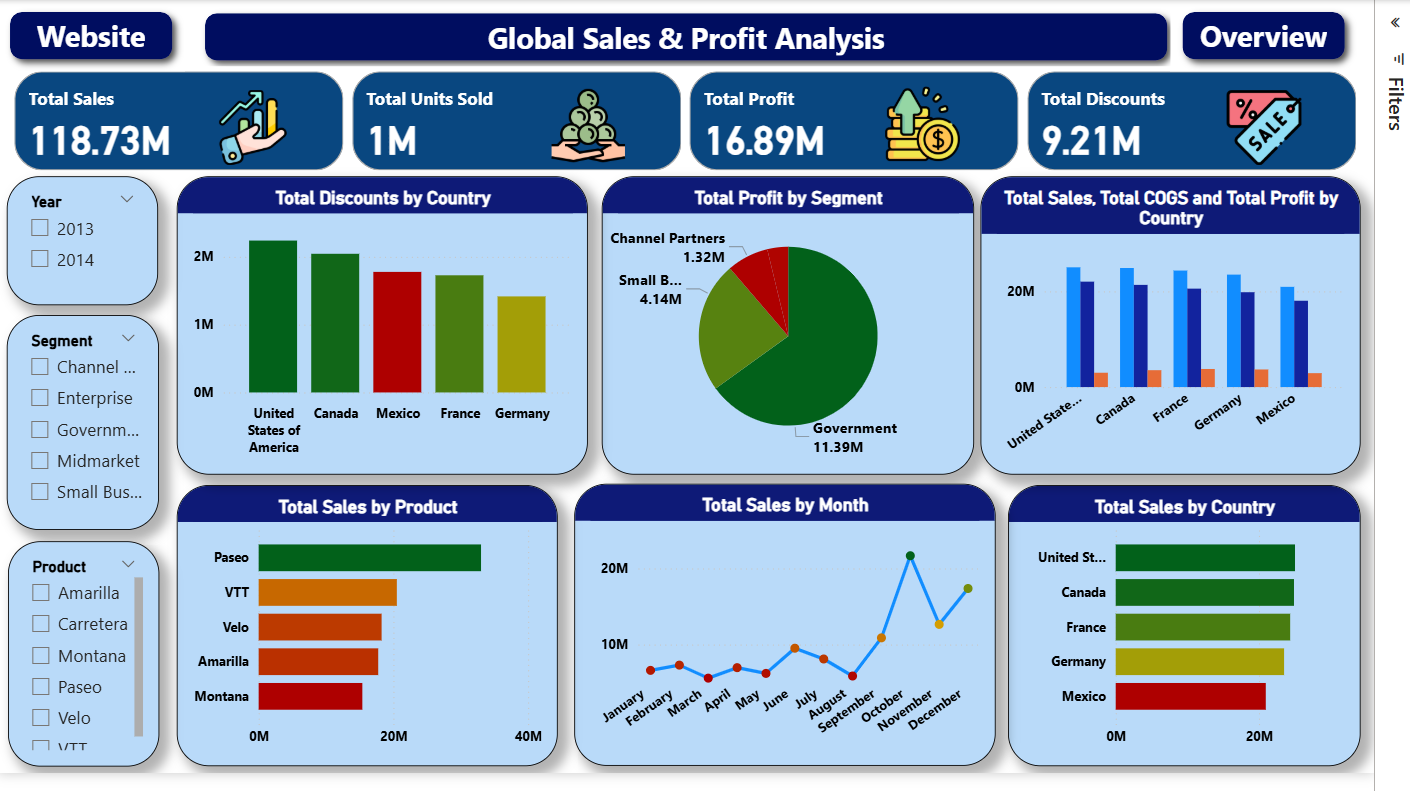

The page's visual inventory and layout, read from the dashboard file:
{"tool":"powerbi","page":{"name":"Q9","canvas":[1280,720],"ordinal":9},"visuals":[{"type":"shape","box":[181.4,1.2,917.4,66.3],"z":0},{"type":"cardVisual","fields":{"Data":["Sum(Finance Dataset. Sales)","Sum(Finance Dataset.Units Sold)","Sum(Finance Dataset.Profit)","Sum(Finance Dataset.Discounts)"]},"box":[10.5,61.6,1259.3,102.3],"z":1000},{"type":"image","box":[181.4,79.1,110.5,79.1],"z":2000},{"type":"image","box":[491.9,75.6,115.1,82.6],"z":3000},{"type":"image","box":[811.6,75.6,96.5,79.1],"z":4000},{"type":"image","box":[1122.1,79.1,111.6,79.1],"z":5000},{"type":"barChart","fields":{"Y":["Sum(Finance Dataset. Sales)"],"Category":["Finance Dataset.Country"]},"box":[939.5,451.2,327.9,261.6],"z":6000},{"type":"pieChart","fields":{"Category":["Finance Dataset.Segment"],"Y":["Sum(Finance Dataset.Profit)"]},"box":[561.6,164,346.5,277.9],"z":7000},{"type":"lineChart","fields":{"Category":["Finance Dataset.Month Name"],"Y":["Sum(Finance Dataset. Sales)"]},"box":[536,450,391.9,262.8],"z":8000},{"type":"barChart","fields":{"Category":["Finance Dataset.Product"],"Y":["Sum(Finance Dataset. Sales)"]},"box":[166.3,451.2,354.7,261.6],"z":9000},{"type":"columnChart","fields":{"Category":["Finance Dataset.Country"],"Y":["Sum(Finance Dataset.Discounts)"]},"box":[166.3,164,382.6,277.9],"z":10000},{"type":"clusteredColumnChart","fields":{"Category":["Finance Dataset.Country"],"Y":["Sum(Finance Dataset. Sales)","Sum(Finance Dataset.COGS)","Sum(Finance Dataset.Profit)"]},"box":[914,164,353.5,277.9],"z":11000},{"type":"slicer","fields":{"Values":["Finance Dataset.Year"]},"box":[8.1,164,140.7,119.8],"z":12000},{"type":"slicer","fields":{"Values":["Finance Dataset.Segment"]},"box":[8.1,293,141.9,200],"z":13000},{"type":"slicer","fields":{"Values":["Finance Dataset.Product"]},"box":[9.3,503.5,140.7,209.3],"z":14000},{"type":"shape","box":[0,0,173.3,66.3],"z":15000},{"type":"shape","box":[1090.7,0,173.3,66.3],"z":16000}]}

Visuals, with their boxes in screenshot pixels (x1, y1, x2, y2), scaled from the page's 1280x720 canvas onto the 1410x791 screenshot:
shape: pyautogui.locateOnScreen(200, 1, 1210, 74)
cardVisual - Sum(Finance Dataset. Sales) x Sum(Finance Dataset.Units Sold): pyautogui.locateOnScreen(12, 68, 1399, 180)
image: pyautogui.locateOnScreen(200, 87, 322, 174)
image: pyautogui.locateOnScreen(542, 83, 669, 174)
image: pyautogui.locateOnScreen(894, 83, 1000, 170)
image: pyautogui.locateOnScreen(1236, 87, 1359, 174)
barChart - Sum(Finance Dataset. Sales) x Finance Dataset.Country: pyautogui.locateOnScreen(1035, 496, 1396, 783)
pieChart - Finance Dataset.Segment x Sum(Finance Dataset.Profit): pyautogui.locateOnScreen(619, 180, 1000, 485)
lineChart - Finance Dataset.Month Name x Sum(Finance Dataset. Sales): pyautogui.locateOnScreen(590, 494, 1022, 783)
barChart - Finance Dataset.Product x Sum(Finance Dataset. Sales): pyautogui.locateOnScreen(183, 496, 574, 783)
columnChart - Finance Dataset.Country x Sum(Finance Dataset.Discounts): pyautogui.locateOnScreen(183, 180, 605, 485)
clusteredColumnChart - Finance Dataset.Country x Sum(Finance Dataset. Sales): pyautogui.locateOnScreen(1007, 180, 1396, 485)
slicer - Finance Dataset.Year: pyautogui.locateOnScreen(9, 180, 164, 312)
slicer - Finance Dataset.Segment: pyautogui.locateOnScreen(9, 322, 165, 542)
slicer - Finance Dataset.Product: pyautogui.locateOnScreen(10, 553, 165, 783)
shape: pyautogui.locateOnScreen(0, 0, 191, 73)
shape: pyautogui.locateOnScreen(1201, 0, 1392, 73)
